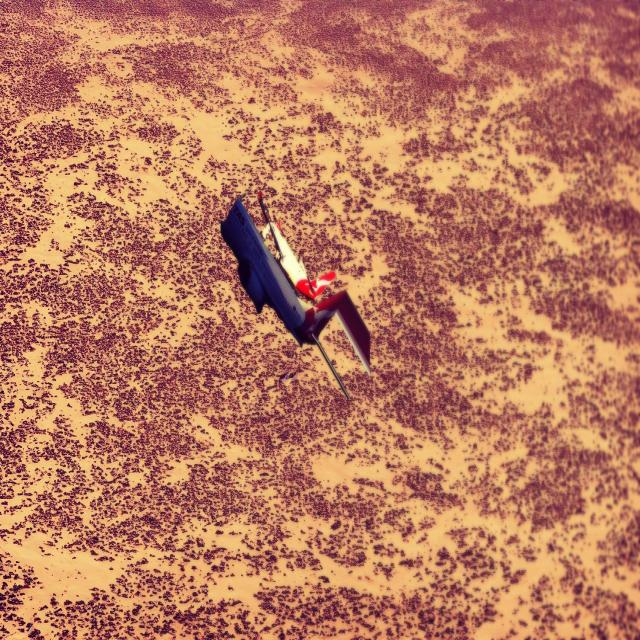airplane: (220, 190, 371, 401)
